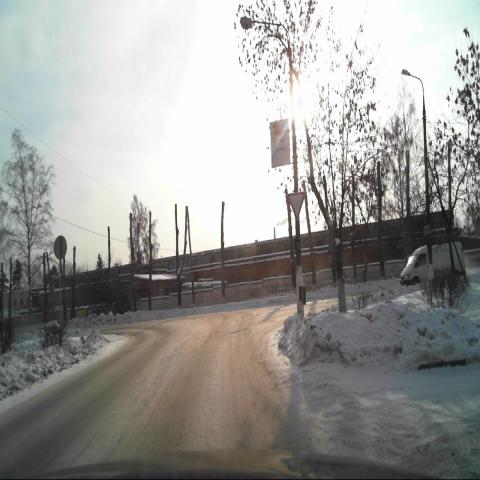2_4: (287, 191, 305, 221)
